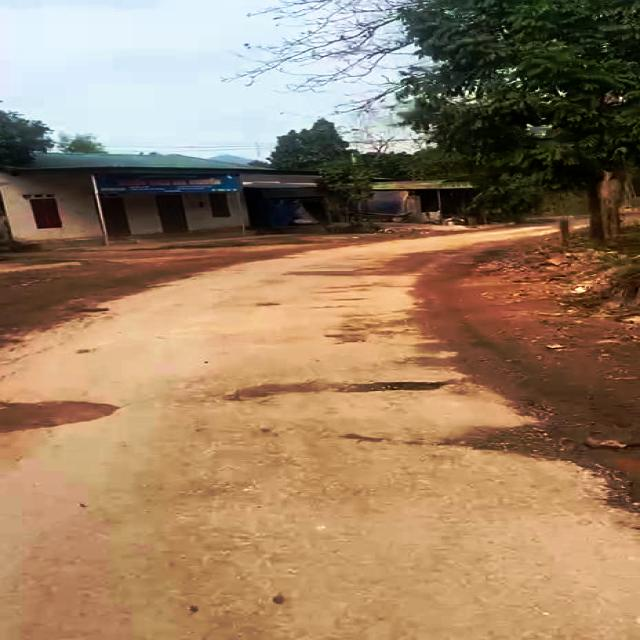pothole: (531, 415, 640, 512), (220, 379, 448, 403), (0, 397, 132, 437)
